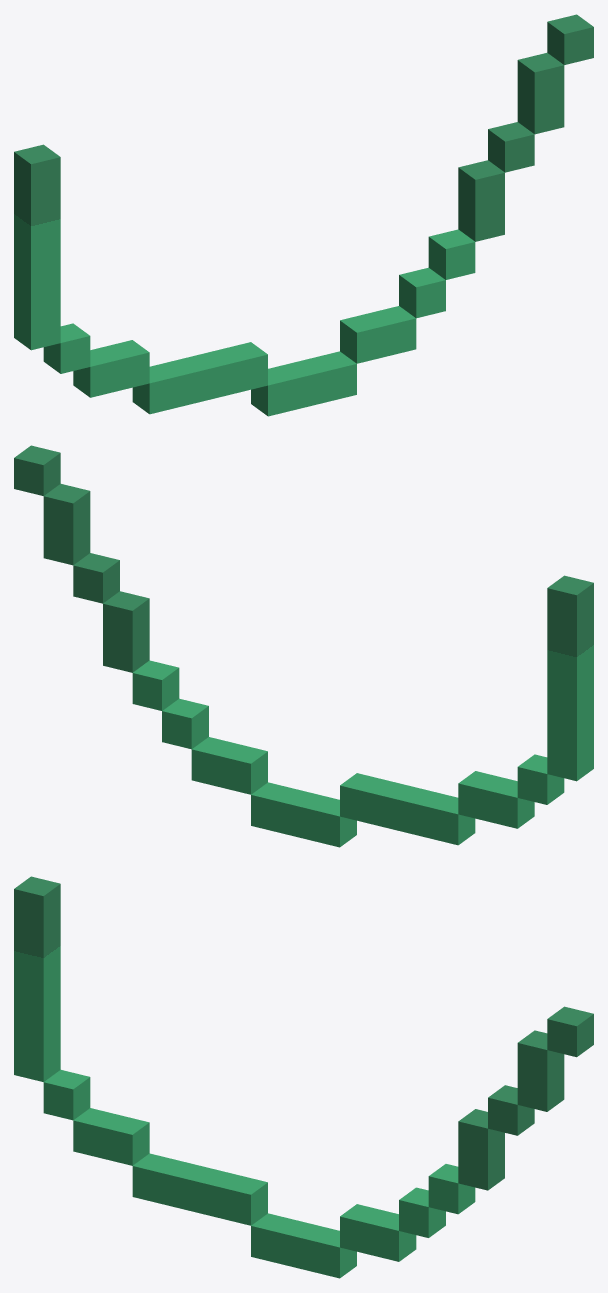
File: vine_U1.fbx
3 renders of one model, top to bottom at view 1: azimuth 30°, elevation 25°; view 2: azimuth 150°, elevation 25°; view 3: azimuth 330°, elevation 25°, orthographic.
Parts seen in each view (by area): view 1: vine_U1; view 2: vine_U1; view 3: vine_U1.
Part boxes in pixels (left/top/right/bottom): vine_U1: left=14, top=14, right=593, bottom=416; vine_U1: left=14, top=445, right=593, bottom=847; vine_U1: left=14, top=876, right=593, bottom=1278.
Bounding box in the file's own units: 19 × 10 × 1.
Materials: 1 (1 with a texture image).
